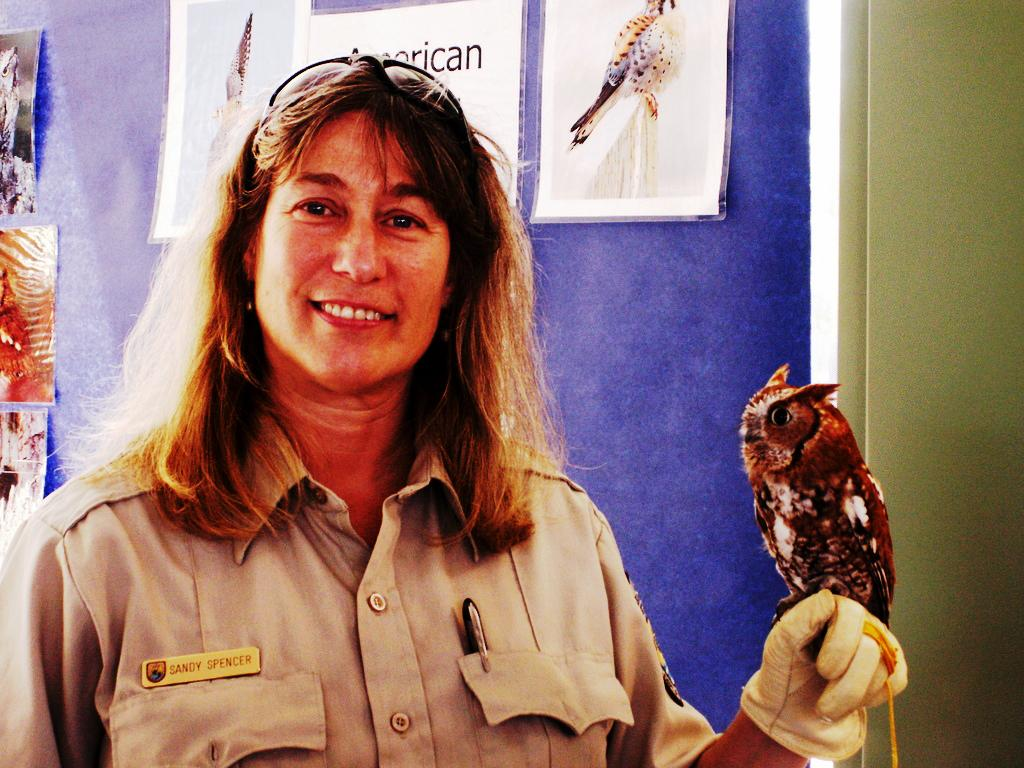Owl: (738, 362, 900, 674)
